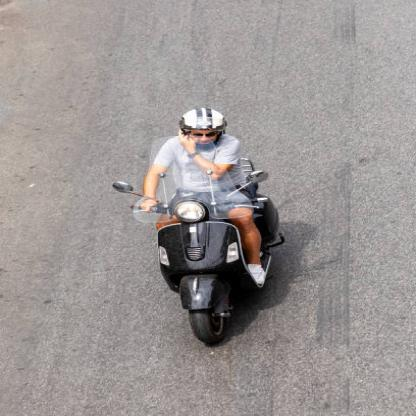Motorcycle: (106, 178, 326, 350)
